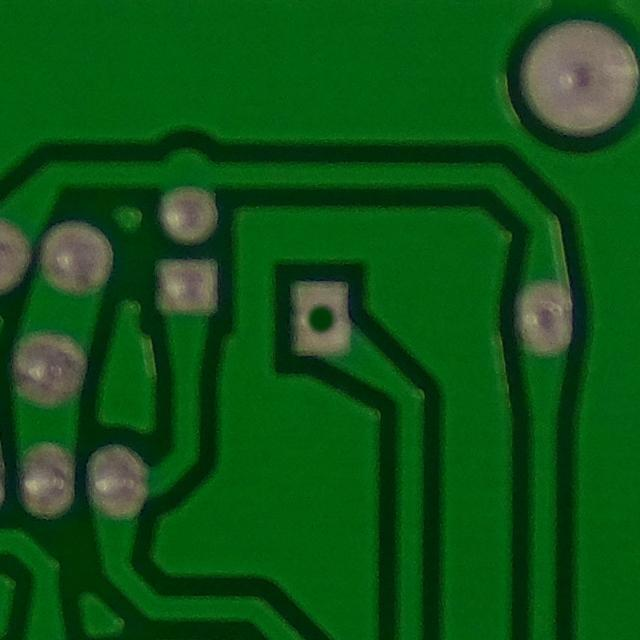missing_hole: (279, 271, 362, 364)
